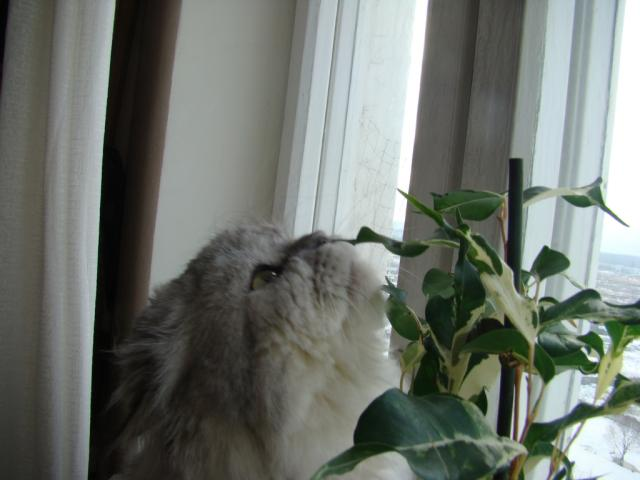Cat: (102, 205, 422, 480)
